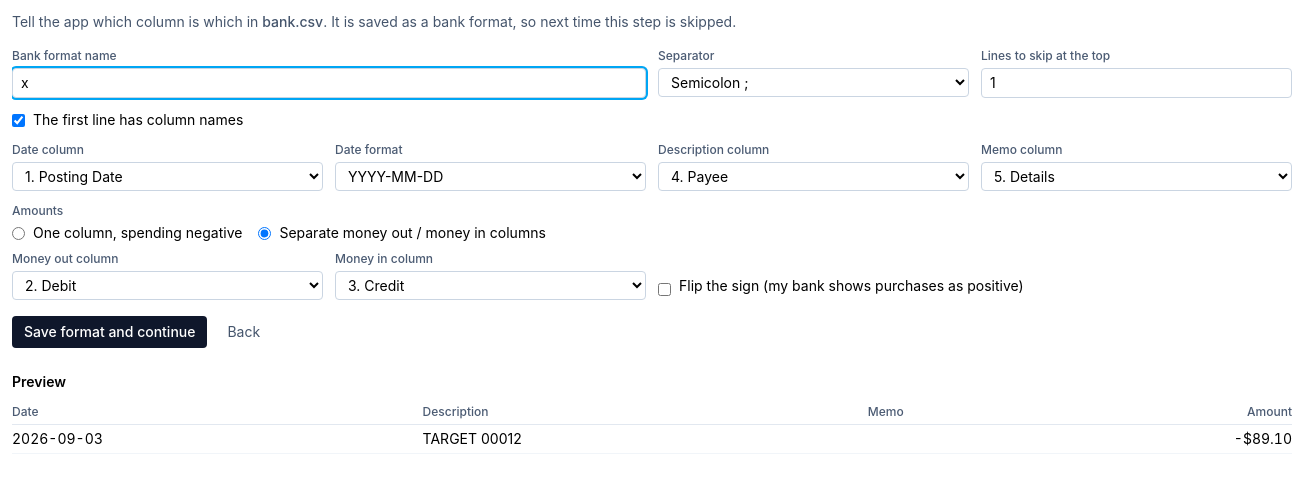
MappingStep › shows parse problems from the preview
This screenshot has width=1304, height=496.
Click the radio button labelled "One column, spending negative": [18, 233] box [12,226,25,240]
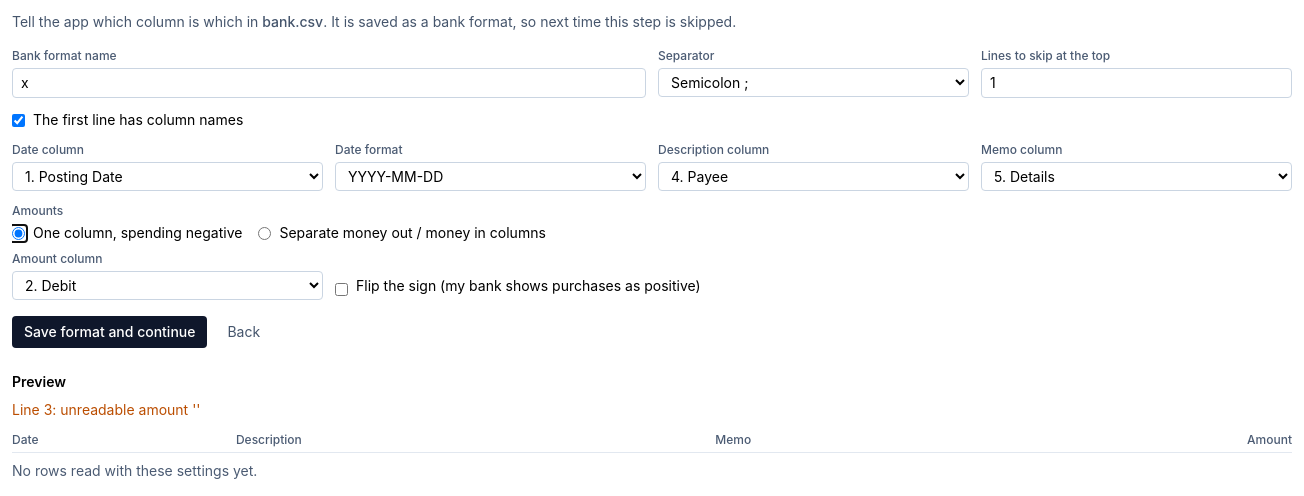
Expected: the list with test id "preview-problems" reads "Line 3: unreadable amount ''", [12,401,200,418]
